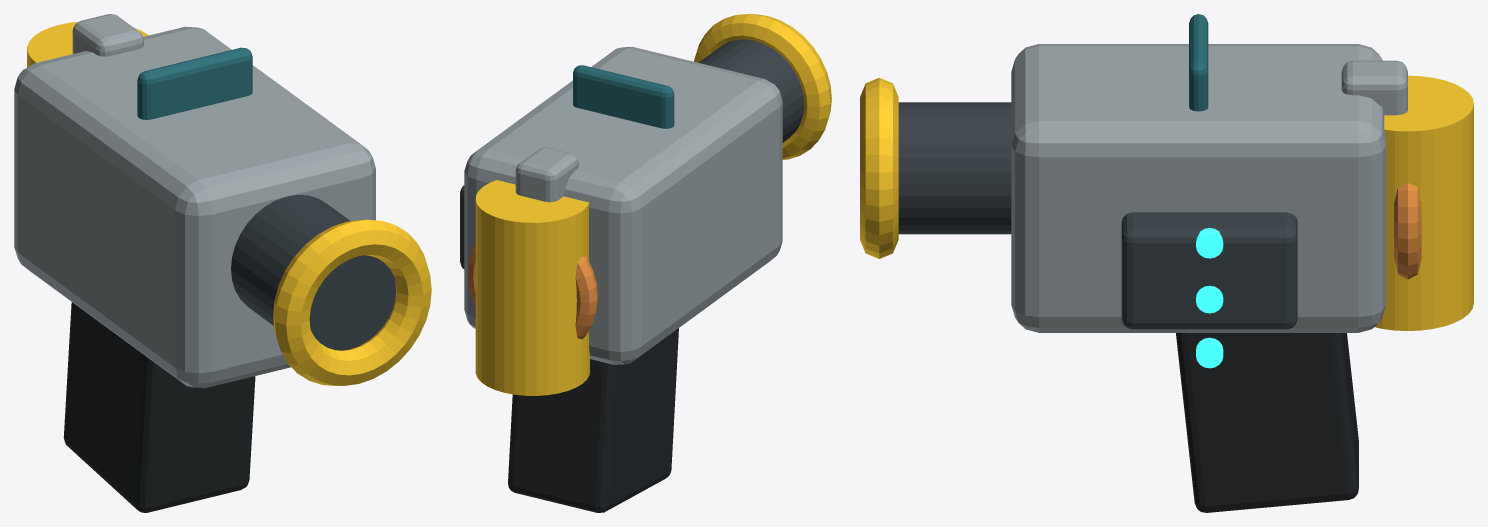
Rendered from color_gun_variant_d.glb.
3 renders of one model, left to right at view 1: azimuth 30°, elevation 25°; view 2: azimuth 150°, elevation 25°; view 3: azimuth 270°, elevation 25°, orthographic. The views are drawn at different scales.
Parts seen in each view (by area): view 1: Tool body, Tool grip, Emitter rim, Tool barrel, Top display, Modular attachment rail, Color cartridge; view 2: Tool body, Color cartridge, Tool grip, Emitter rim, Top display, Tool barrel, Modular attachment rail, Cartridge ring; view 3: Tool body, Tool grip, Side module, Color cartridge, Tool barrel, Emitter rim, Modular attachment rail, Cartridge ring, Top display, Status indicator, Status indicator.002.
Boxes of the visible parts, x1,y1,x2,y2 form: Tool body: [14, 26, 375, 388]; Tool grip: [63, 302, 255, 512]; Emitter rim: [273, 219, 431, 385]; Tool barrel: [231, 194, 396, 350]; Top display: [137, 47, 252, 119]; Modular attachment rail: [72, 14, 143, 56]; Color cartridge: [27, 21, 148, 67]; Tool body: [464, 46, 782, 364]; Color cartridge: [475, 180, 589, 395]; Tool grip: [508, 328, 678, 512]; Emitter rim: [694, 14, 831, 159]; Top display: [573, 65, 674, 128]; Tool barrel: [698, 39, 804, 142]; Modular attachment rail: [515, 147, 578, 202]; Cartridge ring: [467, 242, 597, 339]; Tool body: [1011, 44, 1385, 332]; Tool grip: [1176, 333, 1358, 512]; Side module: [1121, 212, 1297, 329]; Color cartridge: [1374, 75, 1473, 330]; Tool barrel: [898, 102, 1011, 234]; Emitter rim: [860, 77, 898, 258]; Modular attachment rail: [1341, 60, 1407, 115]; Cartridge ring: [1394, 183, 1421, 279]; Top display: [1189, 14, 1208, 111]; Status indicator: [1196, 337, 1223, 368]; Status indicator.002: [1196, 228, 1223, 258].
Size of what is drawn, in the model's own units: 0.5225 by 0.9018 by 1.11.
